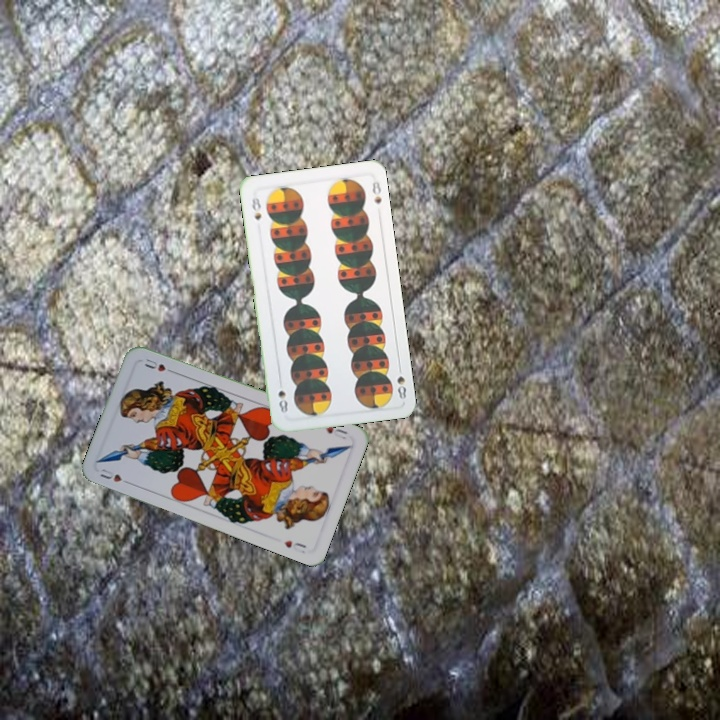HU: (96, 465, 134, 487), (321, 422, 350, 442)
S8: (393, 361, 409, 402), (248, 190, 263, 223)
